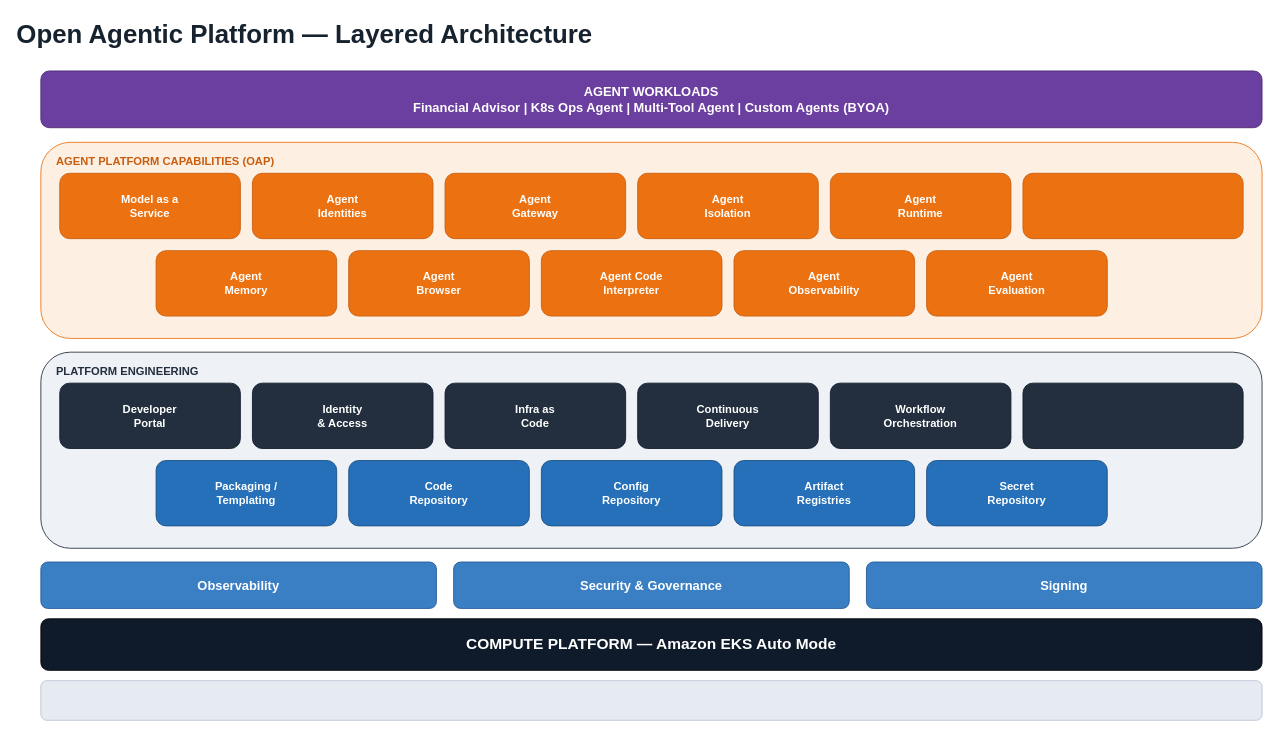
The diagram is 1277 pixels wide and 735 high, and some of its shapes have lost their labels. The shapes that lost their labels are listed below. From the top down, each one's centre as x and y in pixels, then its label:
At pixel 1132 205: "Agent Lifecycle".
At pixel 1132 415: "Service Discovery".
At pixel 651 700: "AWS Cloud".
